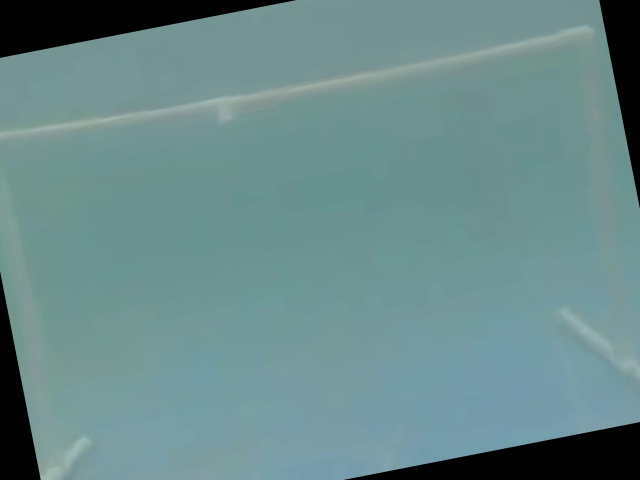gate: (1, 25, 640, 397)
